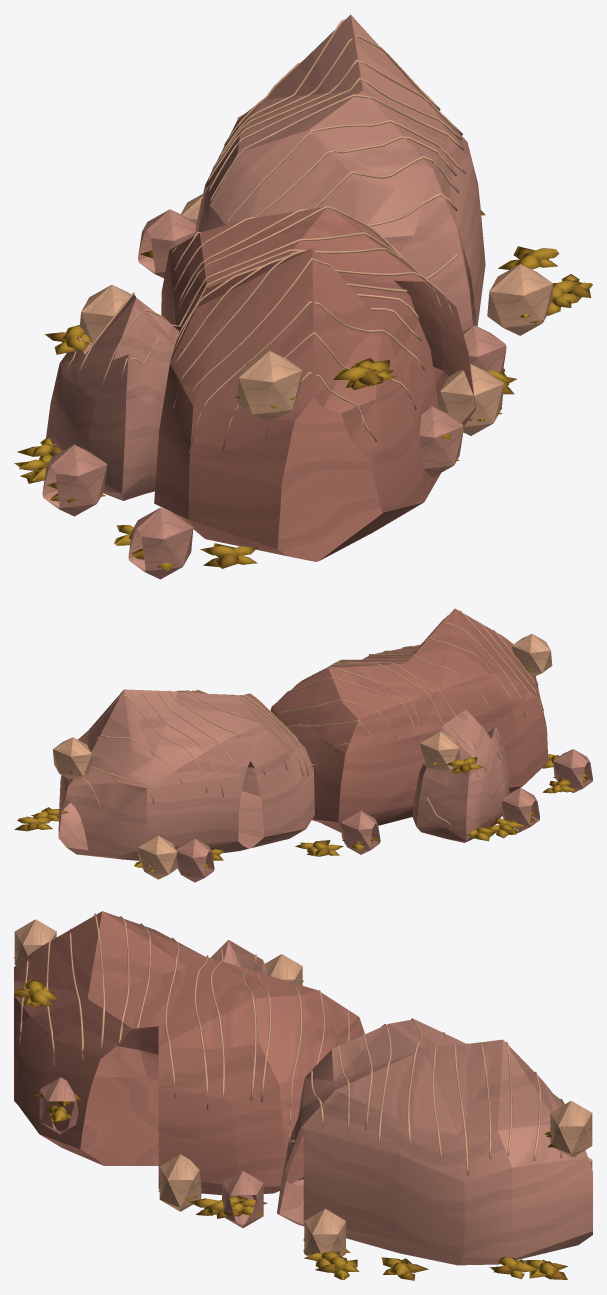
The model's file is PilotRidgeNE_2.fbx.
3 renders of one model, top to bottom at view 1: azimuth 30°, elevation 25°; view 2: azimuth 150°, elevation 25°; view 3: azimuth 270°, elevation 25°, orthographic. The views are drawn at different scales.
Parts seen in each view (by area): view 1: PilotRidgeNE_2__Geometry; view 2: PilotRidgeNE_2__Geometry; view 3: PilotRidgeNE_2__Geometry.
Part boxes in pixels (x1=…): PilotRidgeNE_2__Geometry: x1=14, y1=14, x2=592, y2=579; PilotRidgeNE_2__Geometry: x1=14, y1=608, x2=592, y2=882; PilotRidgeNE_2__Geometry: x1=14, y1=911, x2=592, y2=1280.
Bounding box in the file's own units: 4 × 1.67 × 4.
